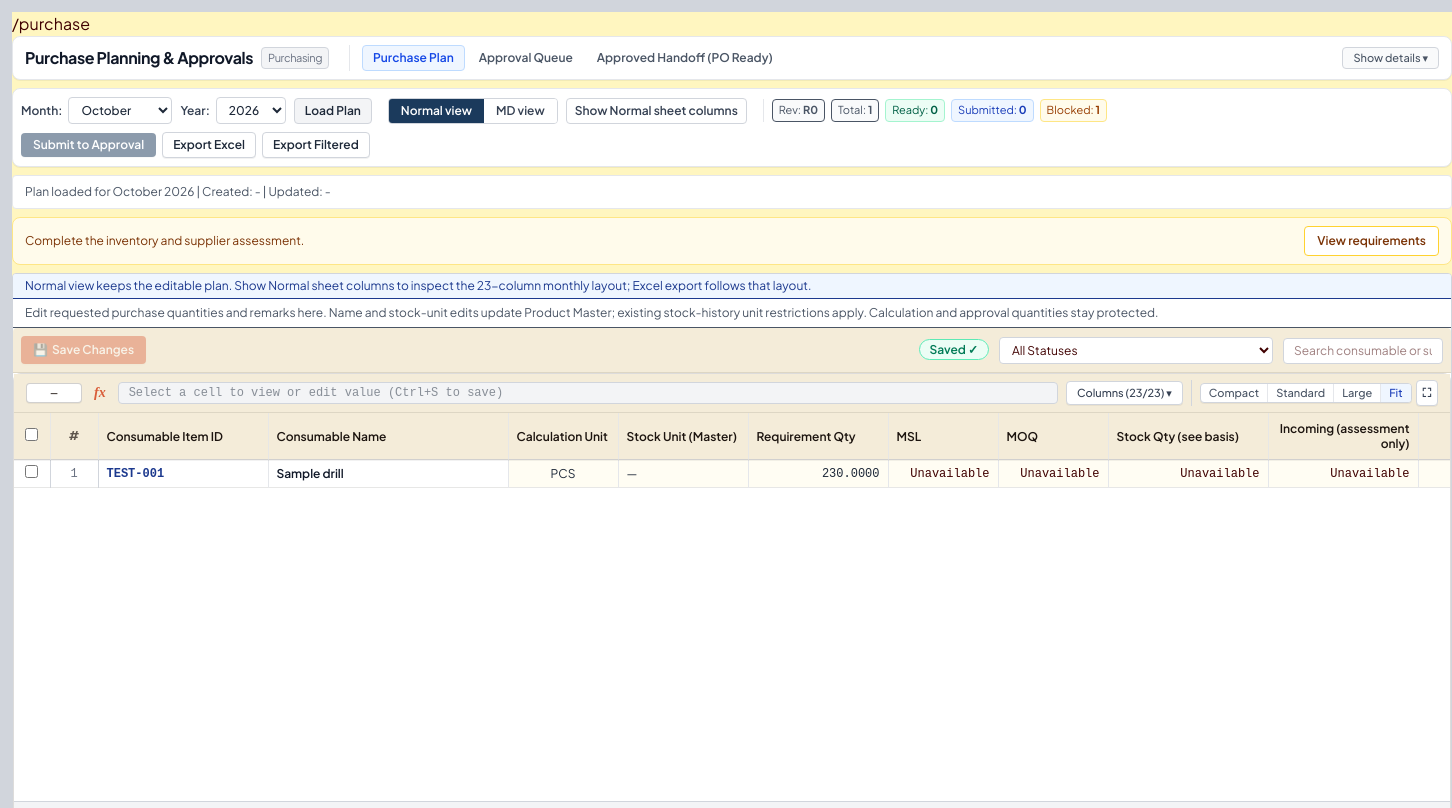
approved plans open Requirement rather than restoring a central Purchase tab
Expected: the cell "TEST-001" is shown, [98,460,268,488]
What coordinates should you click on to do the following:
click the button "View requirements"
I would click on:
 (1372, 241)
Its box is [1304,226,1439,256].
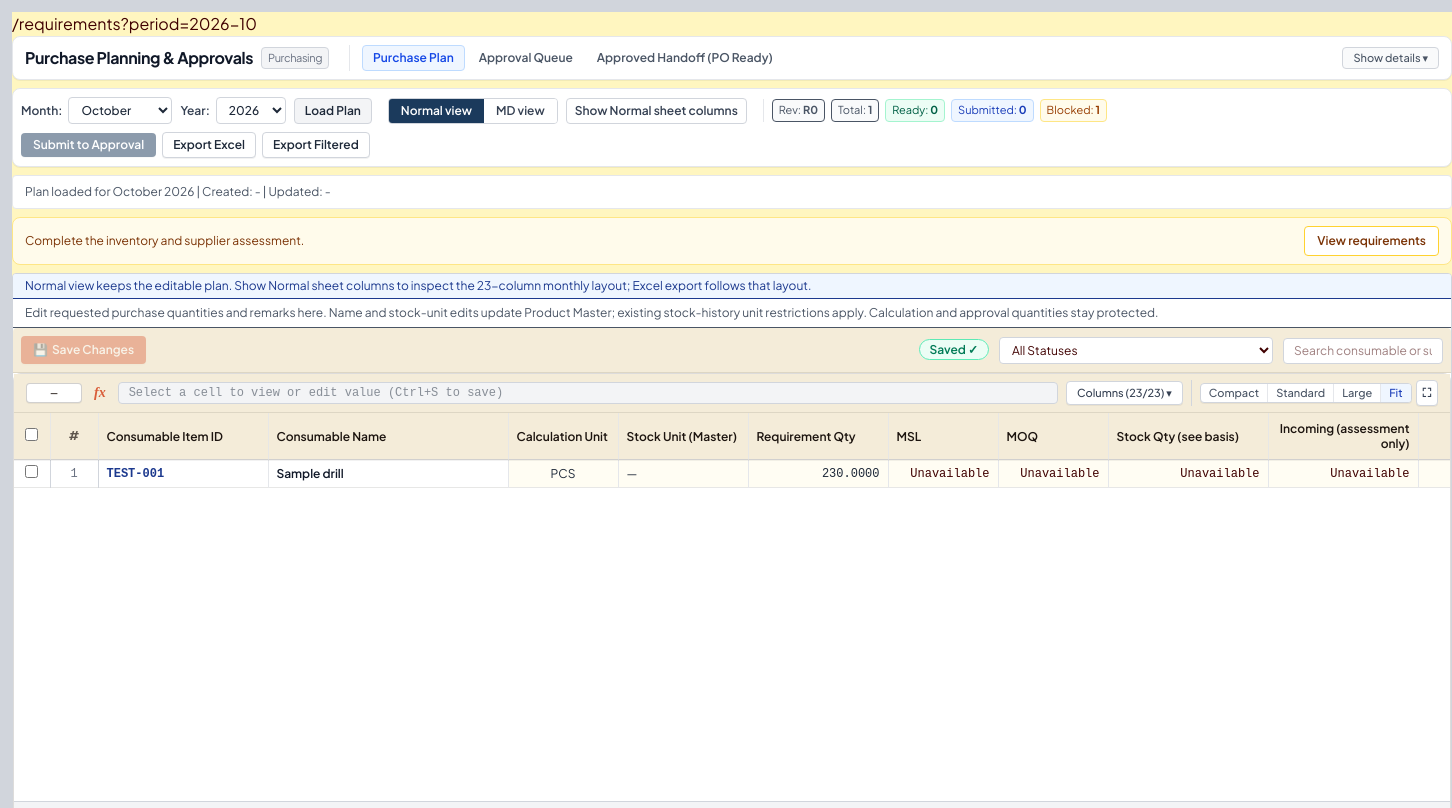
Now the text named "Current route" reads "/requirements?period=2026-10", box [12,13,257,34]
